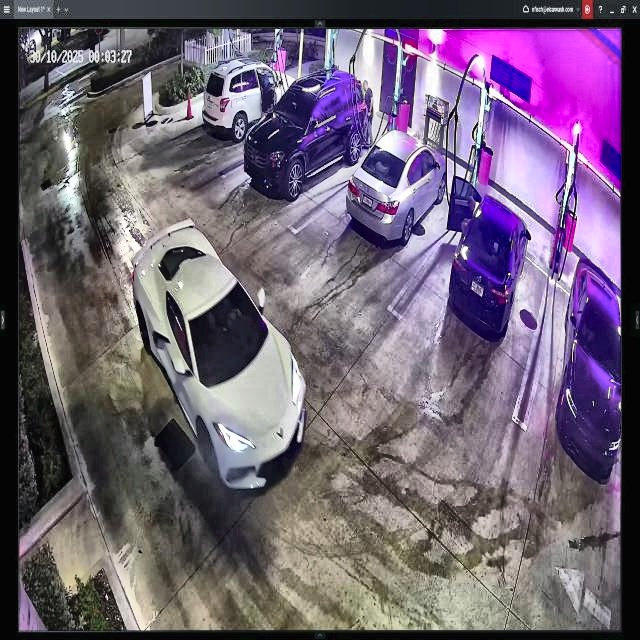Car: (133, 218, 307, 492), (245, 71, 370, 196), (449, 181, 531, 340), (343, 129, 448, 240), (202, 59, 296, 141)
